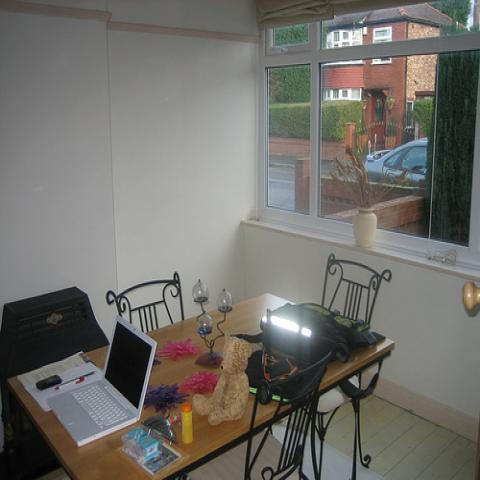car: (364, 138, 427, 188)
